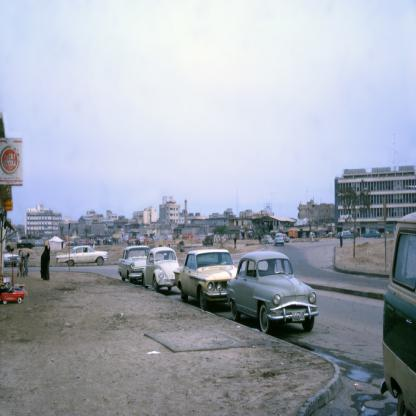Car: (225, 250, 321, 339), (381, 210, 416, 416), (173, 247, 239, 308), (140, 244, 182, 293), (116, 243, 154, 284), (57, 242, 109, 268), (2, 250, 19, 267), (363, 229, 381, 240), (337, 230, 353, 240), (274, 231, 284, 246), (261, 237, 273, 246)
